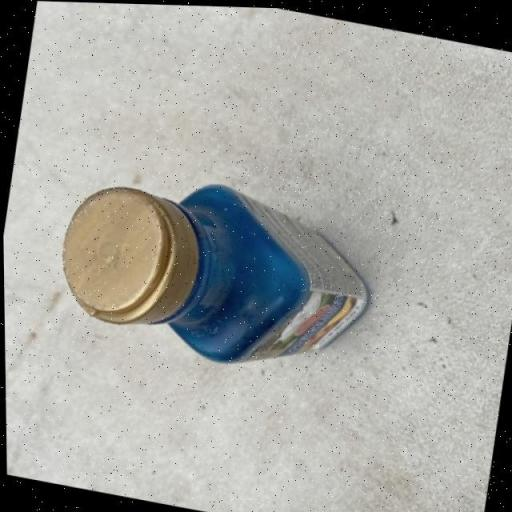plastic: (47, 154, 383, 388)
